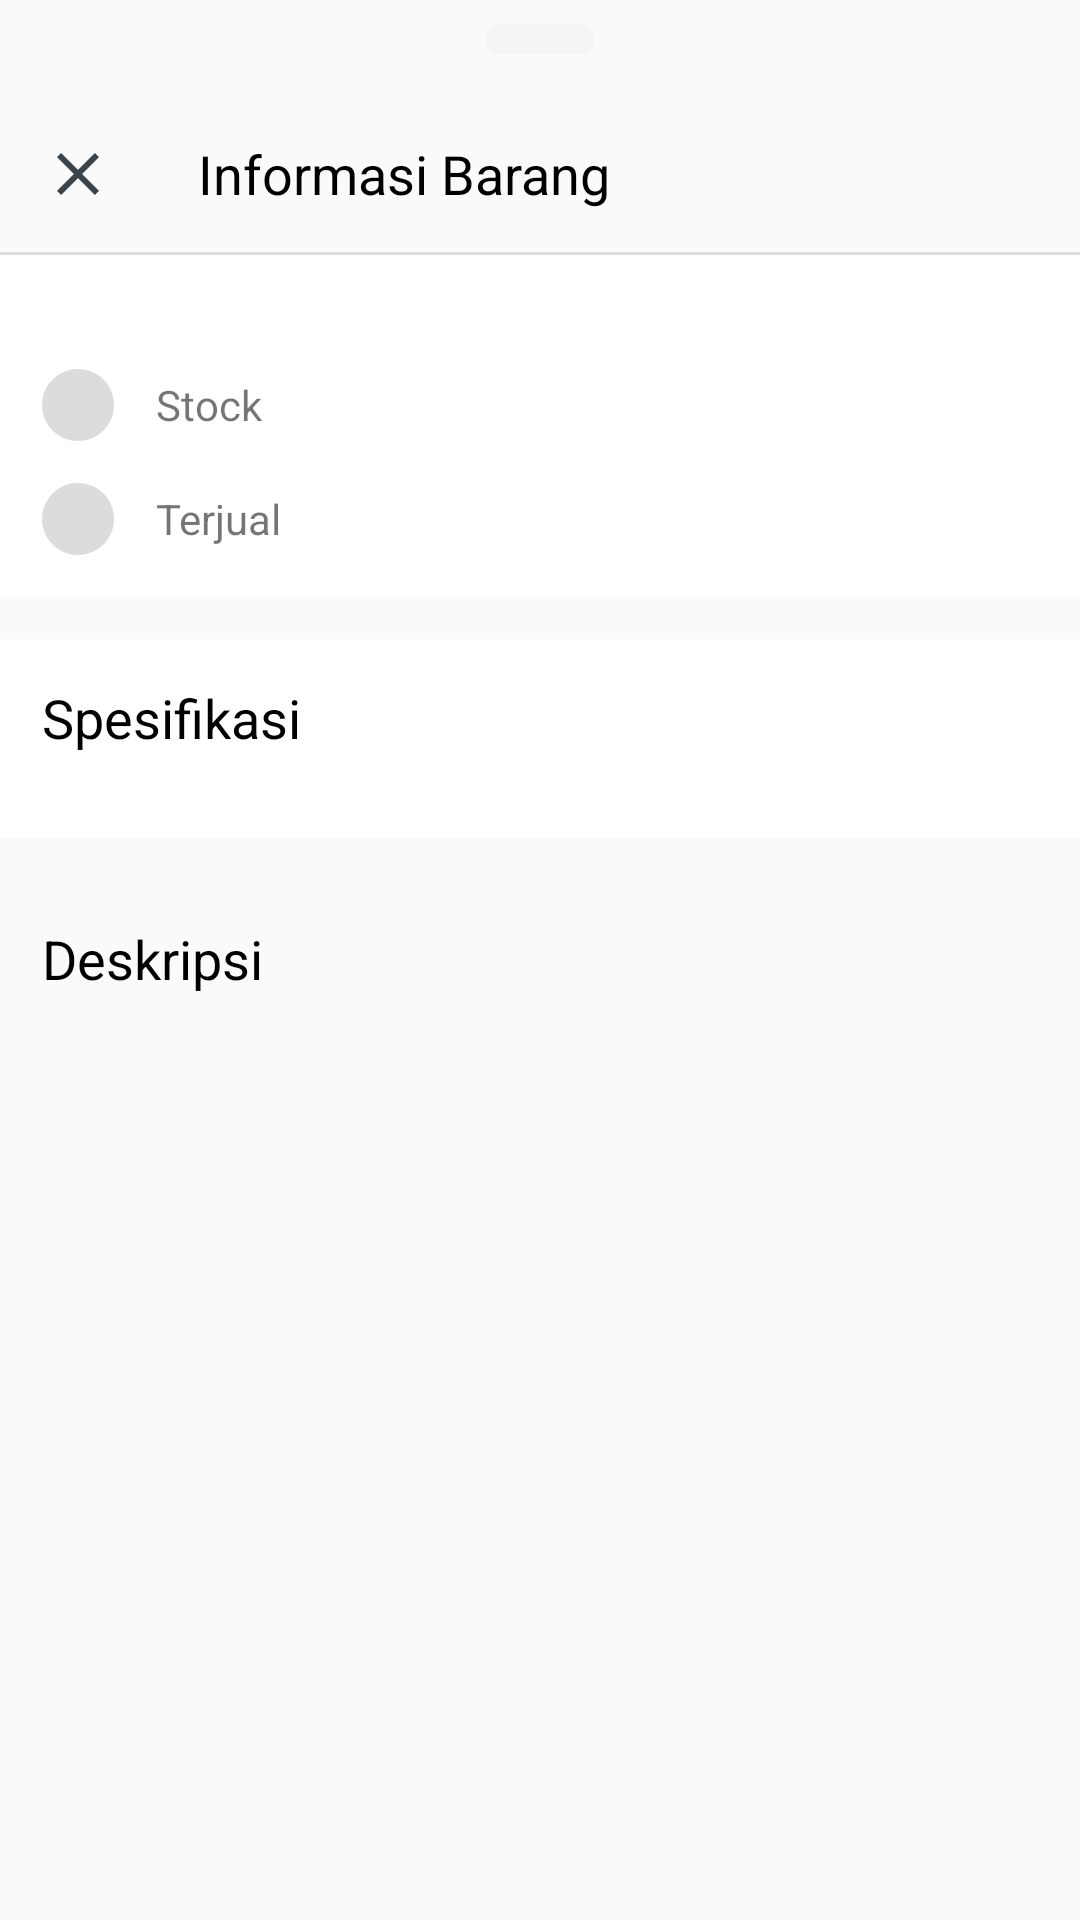

Where icons sit on this 1080 x 1920 app screen, as (x1, y1, x2, y2):
close: (57, 153, 99, 195)
